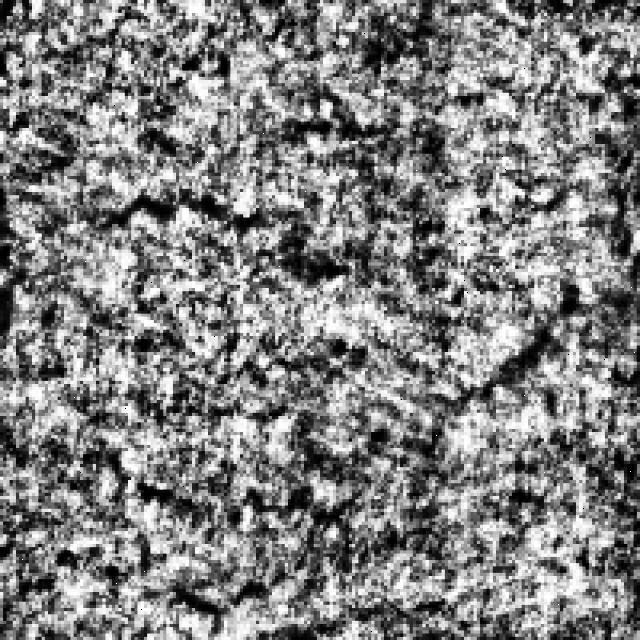Pitted_Surface: (96, 284, 579, 630)
